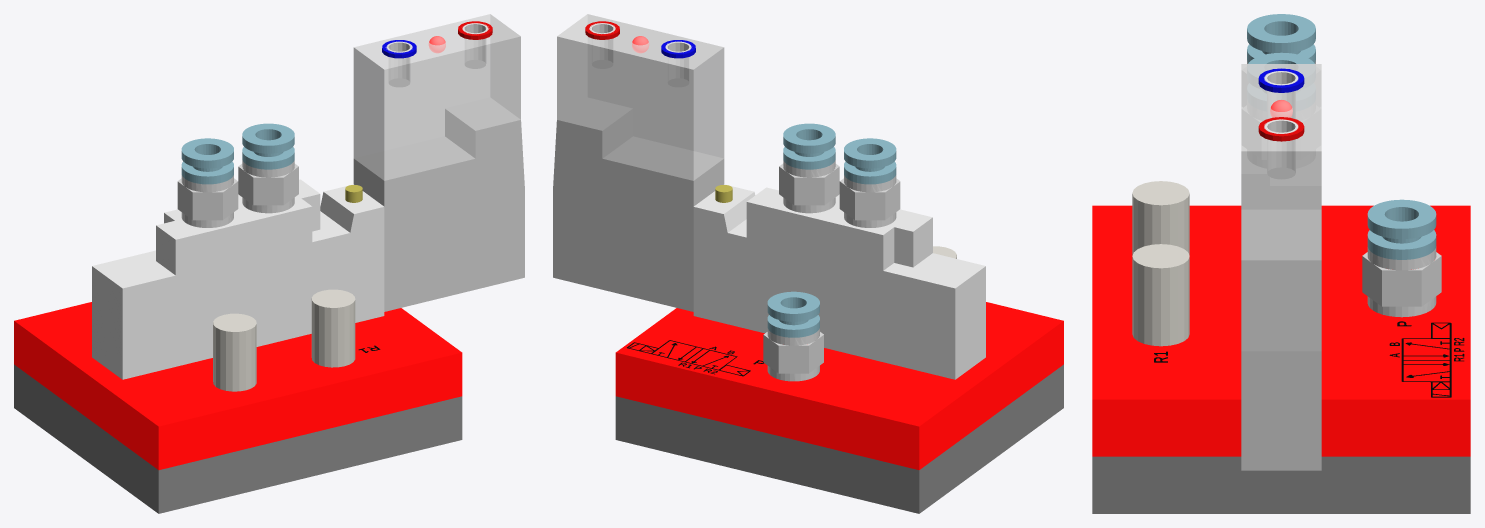
The model's file is valve-5-2-single.glb.
3 views of the same model, side by side, from view 1: azimuth 30°, elevation 25°; view 2: azimuth 150°, elevation 25°; view 3: azimuth 270°, elevation 25° (orthographic). The views are drawn at different scales.
Visible parts, largest first — view 1: Body__go1120__mesh3, Body__go1120__mesh4, Body__go1120__mesh8, Body__go1120__mesh9, Body__go1120__mesh0, Body__go1120__mesh7, Body__go1120__mesh5, Body__go1120__mesh6, Body__go1120__mesh2, Body__go1120__mesh1; view 2: Body__go1120__mesh3, Body__go1120__mesh4, Body__go1120__mesh8, Body__go1120__mesh9, Body__go1120__mesh0, Body__go1120__mesh5, Body__go1120__mesh6, Body__go1120__mesh2, Body__go1120__mesh1, Body__go1120__mesh10; view 3: Body__go1120__mesh3, Body__go1120__mesh8, Body__go1120__mesh0, Body__go1120__mesh9, Body__go1120__mesh7, Body__go1120__mesh6, Body__go1120__mesh5, Body__go1120__mesh2, Body__go1120__mesh10, Body__go1120__mesh1.
Part boxes in pixels (x1,y1,x2,y2): Body__go1120__mesh3: (14,302,462,469); Body__go1120__mesh4: (92,179,384,379); Body__go1120__mesh8: (353,97,524,311); Body__go1120__mesh9: (353,14,520,180); Body__go1120__mesh0: (14,364,462,513); Body__go1120__mesh7: (213,289,355,391); Body__go1120__mesh5: (177,160,298,227); Body__go1120__mesh6: (181,123,294,184); Body__go1120__mesh2: (458,21,492,68); Body__go1120__mesh1: (382,40,416,86); Body__go1120__mesh3: (615,302,1063,469); Body__go1120__mesh4: (693,184,985,379); Body__go1120__mesh8: (553,97,724,311); Body__go1120__mesh9: (557,14,724,180); Body__go1120__mesh0: (615,364,1063,513); Body__go1120__mesh5: (763,160,900,381); Body__go1120__mesh6: (767,123,896,337); Body__go1120__mesh2: (585,21,619,68); Body__go1120__mesh1: (661,40,695,86); Body__go1120__mesh10: (627,340,763,376); Body__go1120__mesh3: (1092,205,1470,456); Body__go1120__mesh8: (1241,210,1321,470); Body__go1120__mesh0: (1092,456,1470,513); Body__go1120__mesh9: (1241,64,1321,260); Body__go1120__mesh7: (1132,181,1189,346); Body__go1120__mesh6: (1247,14,1436,259); Body__go1120__mesh5: (1247,60,1441,317); Body__go1120__mesh2: (1258,117,1304,179); Body__go1120__mesh10: (1154,321,1464,397); Body__go1120__mesh1: (1258,68,1304,118).
Size of the model in its own units: 0.1115 by 0.0853 by 0.066.
Materials: 13 (4 with a texture image).
